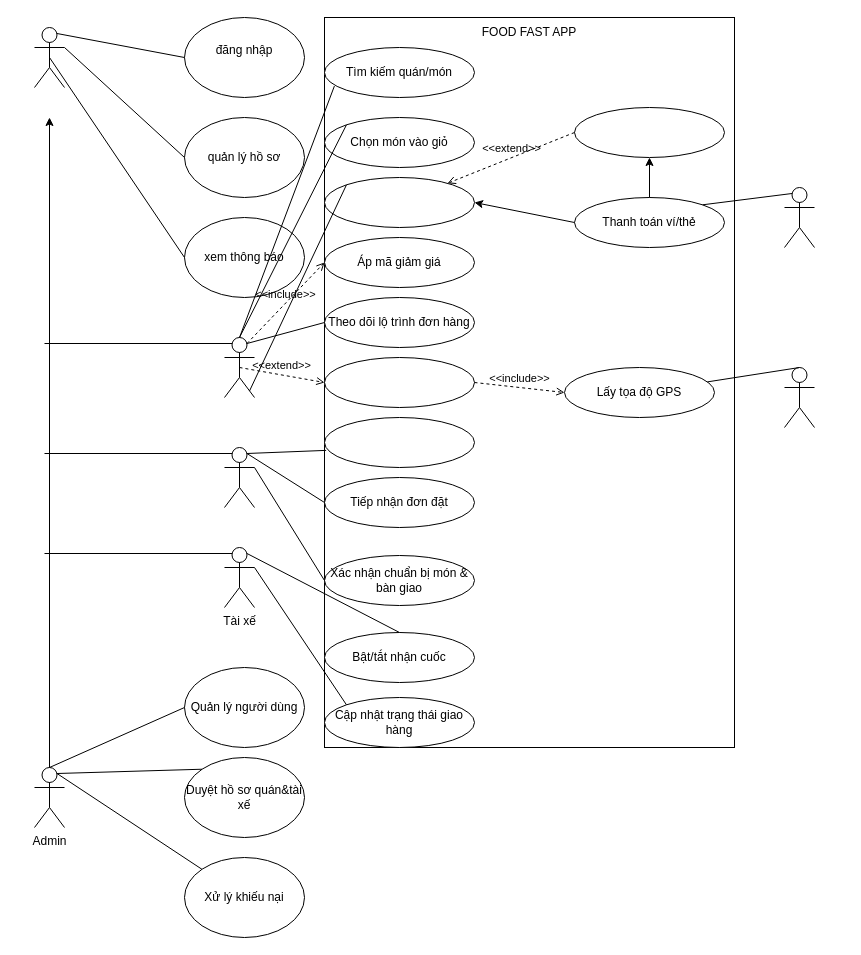
Image size: 861x955. Some labels were removed from this diagram. Each missing label, with the centre of its shape:
"Cổng thanh toán" goes at (799,217).
"Dịch vụ bản đồ" goes at (799,397).
"Hủy đơn" goes at (399,382).
"Khách hàng" goes at (239,367).
"Người dùng" goes at (49,57).
"Quán ăn" goes at (239,477).
"Quản lý menu món ăn" goes at (399,442).
"Thanh toán COD" goes at (649,132).
"Đặt hàng&Thanh toán" goes at (399,202).
